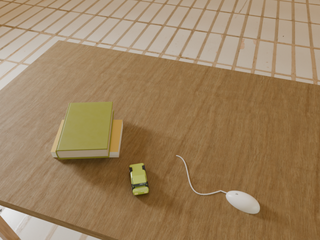book: (56, 102, 114, 159), (51, 120, 123, 157)
mouse: (226, 191, 260, 214)
toy_car: (129, 163, 149, 195)
